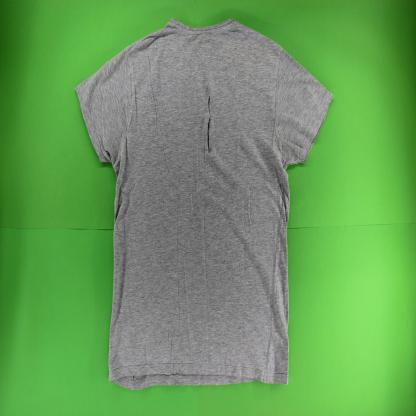hole: (206, 91, 212, 156)
